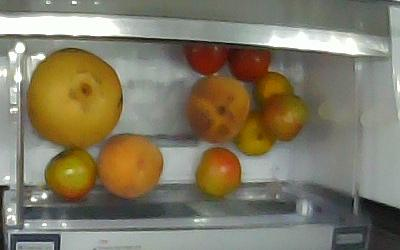peach: (96, 134, 163, 200), (188, 75, 250, 142)
pear: (27, 46, 124, 147)
tangerine: (235, 114, 275, 156), (254, 72, 293, 105)
tomato: (45, 148, 96, 202), (258, 93, 307, 143), (194, 148, 242, 195), (228, 46, 271, 82), (183, 44, 228, 76)
